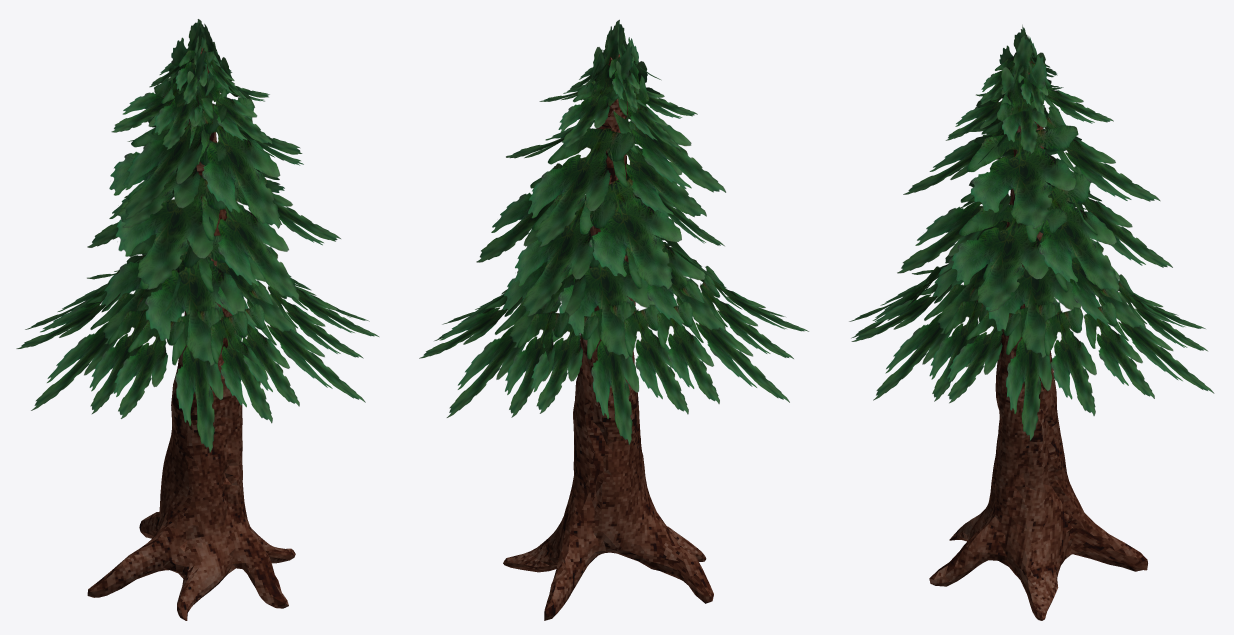
Rendered from pinetree.glb.
3 views of the same model, side by side, from view 1: azimuth 30°, elevation 25°; view 2: azimuth 150°, elevation 25°; view 3: azimuth 270°, elevation 25° (orthographic). The views are drawn at different scales.
Parts seen in each view (by area): view 1: Cube, bigleaf.002, bigleaf.004, bigleaf, pineleaf.002, pineleaf.010, pineleaf.001, pineleaf.003, pineleaf.011, pineleaf.014, pineleaf.015, bigleaf.001 (+9 smaller); view 2: Cube, bigleaf.005, bigleaf.004, bigleaf.003, pineleaf.008, pineleaf.004, pineleaf.007, pineleaf.003, pineleaf.011, pineleaf.006, pineleaf.017, pineleaf.012 (+6 smaller); view 3: Cube, bigleaf.001, bigleaf.003, bigleaf, pineleaf.009, pineleaf.005, pineleaf.006, pineleaf.008, pineleaf.001, pineleaf.024, pineleaf.007, pineleaf.010 (+7 smaller).
Part boxes in pixels (x1=…): Cube: x1=87, y1=48, x2=295, y2=620; bigleaf.002: x1=113, y1=235, x2=272, y2=452; bigleaf.004: x1=16, y1=234, x2=200, y2=414; bigleaf: x1=198, y1=256, x2=365, y2=406; pineleaf.002: x1=115, y1=175, x2=238, y2=289; pineleaf.010: x1=189, y1=97, x2=281, y2=228; pineleaf.001: x1=201, y1=180, x2=299, y2=300; pineleaf.003: x1=123, y1=103, x2=227, y2=219; pineleaf.011: x1=109, y1=127, x2=227, y2=227; pineleaf.014: x1=201, y1=83, x2=272, y2=144; pineleaf.015: x1=154, y1=79, x2=214, y2=149; bigleaf.001: x1=286, y1=272, x2=378, y2=336; Cube: x1=503, y1=54, x2=713, y2=620; bigleaf.005: x1=531, y1=235, x2=688, y2=444; bigleaf.004: x1=626, y1=216, x2=793, y2=403; bigleaf.003: x1=419, y1=249, x2=599, y2=417; pineleaf.008: x1=528, y1=128, x2=634, y2=246; pineleaf.004: x1=579, y1=178, x2=681, y2=289; pineleaf.007: x1=514, y1=194, x2=616, y2=316; pineleaf.003: x1=613, y1=101, x2=725, y2=192; pineleaf.011: x1=610, y1=120, x2=706, y2=216; pineleaf.006: x1=476, y1=163, x2=562, y2=262; pineleaf.017: x1=576, y1=19, x2=632, y2=106; pineleaf.012: x1=558, y1=80, x2=624, y2=147; Cube: x1=929, y1=61, x2=1147, y2=620; bigleaf.001: x1=947, y1=234, x2=1096, y2=440; bigleaf.003: x1=1055, y1=258, x2=1214, y2=398; bigleaf: x1=851, y1=222, x2=1006, y2=401; pineleaf.009: x1=967, y1=125, x2=1078, y2=228; pineleaf.005: x1=951, y1=203, x2=1067, y2=311; pineleaf.006: x1=1026, y1=174, x2=1119, y2=291; pineleaf.008: x1=1045, y1=106, x2=1160, y2=201; pineleaf.001: x1=897, y1=193, x2=1010, y2=273; pineleaf.024: x1=997, y1=35, x2=1046, y2=121; pineleaf.007: x1=1071, y1=166, x2=1172, y2=267; pineleaf.010: x1=903, y1=121, x2=1007, y2=194.
Size of the model in its own units: 3.08 by 4.81 by 3.
49 materials, 49 textured.
